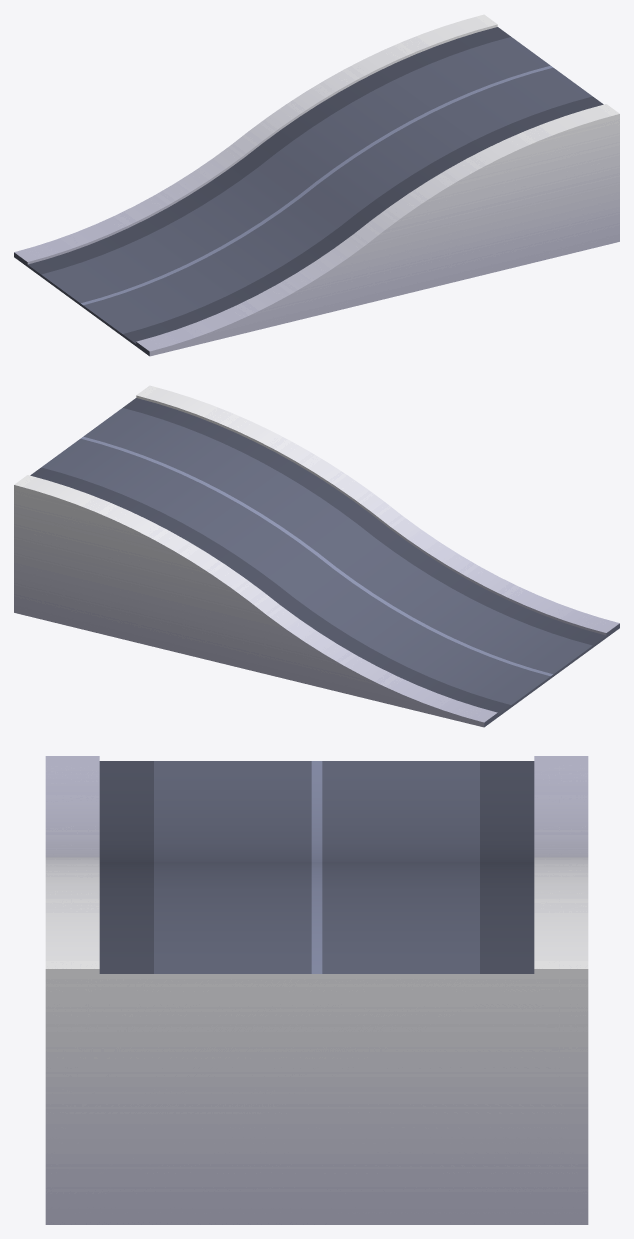
The model's file is road-slant-curve.glb.
The picture shows the model from 3 angles, top to bottom: view 1: azimuth 30°, elevation 25°; view 2: azimuth 150°, elevation 25°; view 3: azimuth 270°, elevation 25°; orthographic projection. The views are drawn at different scales.
Visible parts, largest first — view 1: road-slant-curve; view 2: road-slant-curve; view 3: road-slant-curve.
Boxes of the visible parts, x1,y1,x2,y2 form: road-slant-curve: [14, 14, 619, 356]; road-slant-curve: [14, 385, 619, 727]; road-slant-curve: [45, 756, 588, 1224].
Size of the model in its own units: 2 by 0.52 by 1.
1 material, 1 textured.
